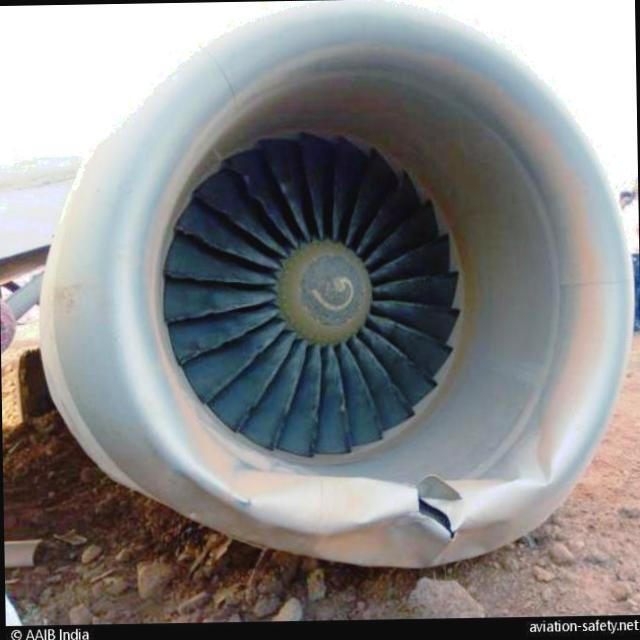crack: (419, 492, 455, 546)
dent: (240, 472, 418, 534), (509, 432, 560, 491)
